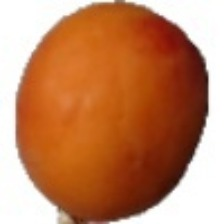apricot: (41, 26, 192, 206)
